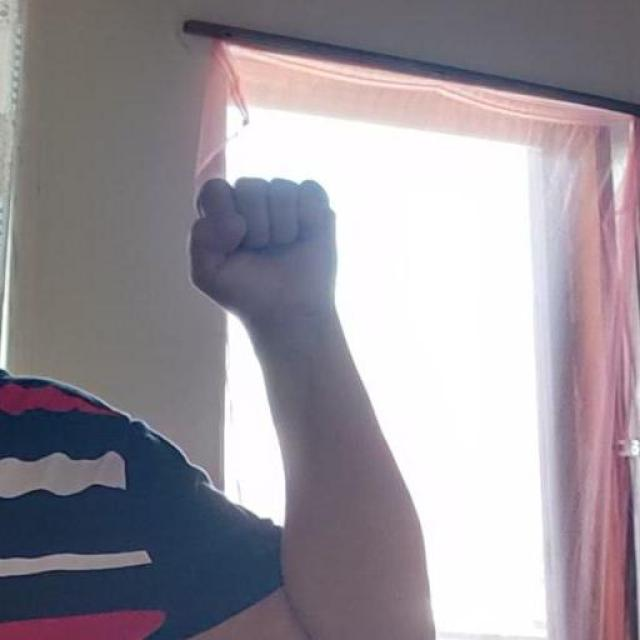hand: (188, 174, 338, 331)
